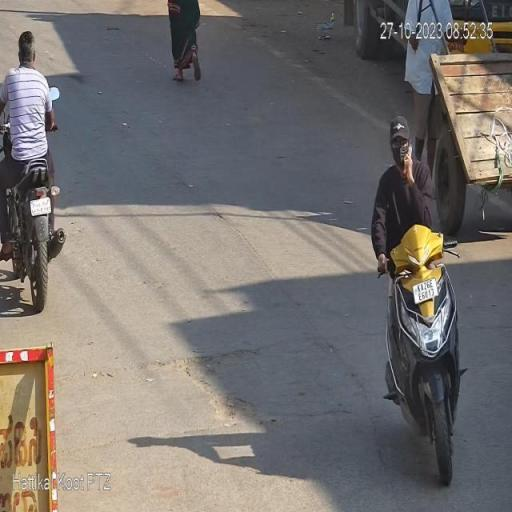using mobile: (402, 132, 414, 185)
